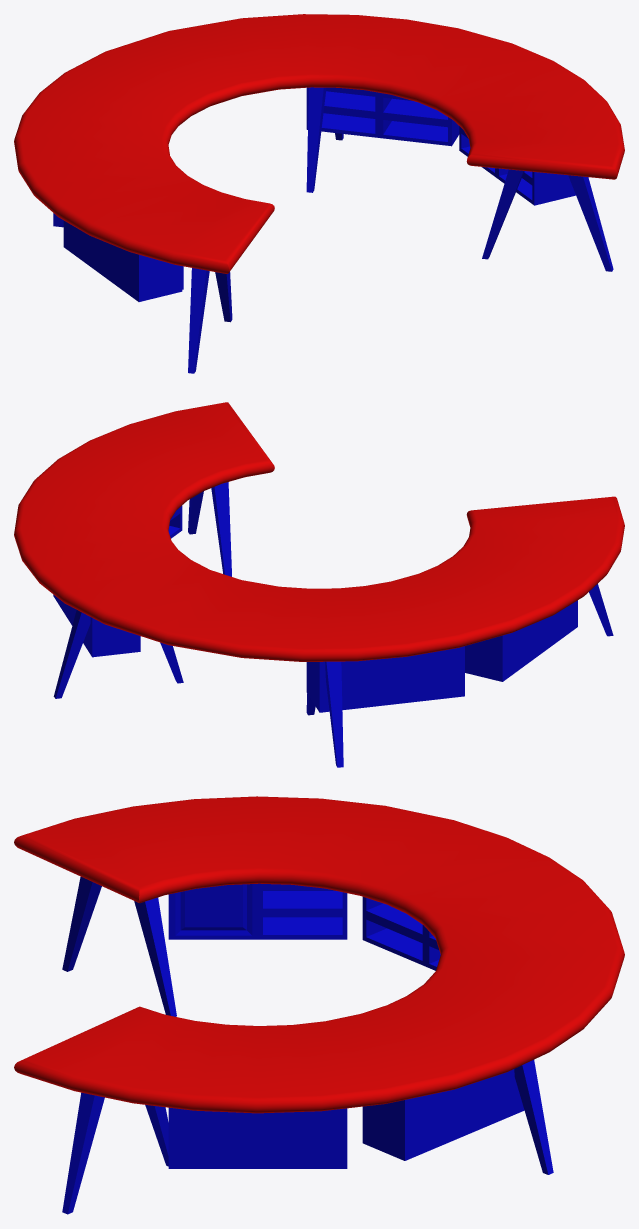
Rendered from Desk_001.fbx.
3 views of the same model, one above another, from view 1: azimuth 30°, elevation 25°; view 2: azimuth 150°, elevation 25°; view 3: azimuth 270°, elevation 25° (orthographic). The views are drawn at different scales.
Parts seen in each view (by area): view 1: Desk.001; view 2: Desk.001; view 3: Desk.001.
Part boxes in pixels (bbox=[...]): Desk.001: bbox=[14, 14, 624, 373]; Desk.001: bbox=[14, 402, 624, 767]; Desk.001: bbox=[14, 796, 624, 1214].
Bounding box in the file's own units: 301 × 65.66 × 253.
